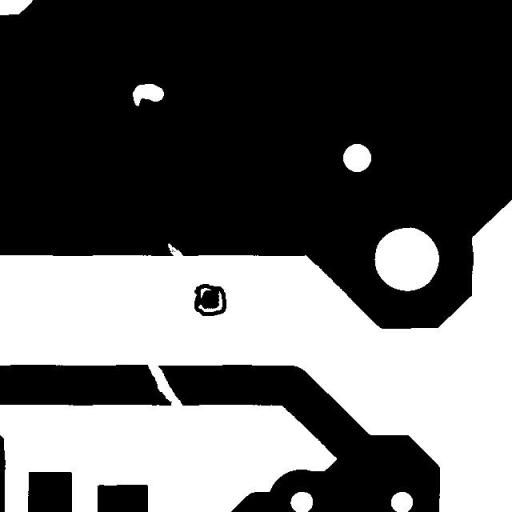copper: (186, 276, 234, 323)
mousebite: (160, 235, 190, 268)
open: (140, 356, 190, 414)
pin-hole: (336, 136, 378, 179), (125, 76, 171, 114)
